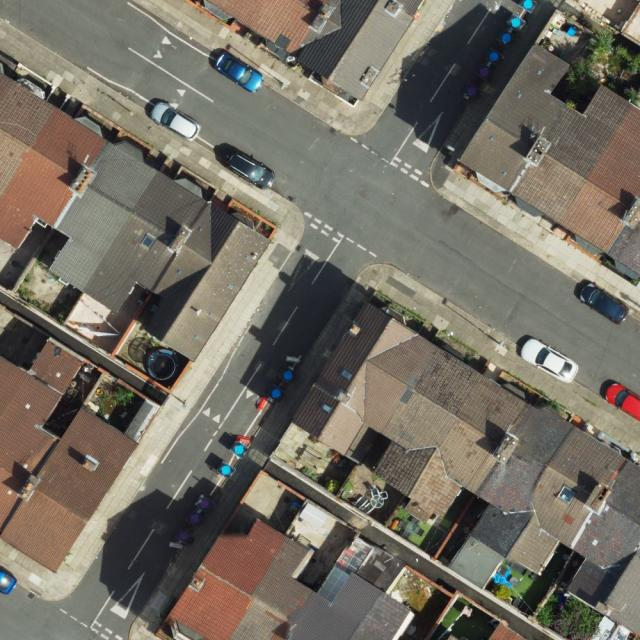roof: (293, 300, 640, 635), (0, 72, 271, 362), (458, 44, 640, 275), (0, 341, 139, 572), (169, 518, 412, 640), (204, 0, 423, 100), (490, 623, 528, 640)
skylight: (555, 483, 578, 507), (140, 234, 156, 250), (340, 370, 352, 381), (320, 404, 333, 414)
